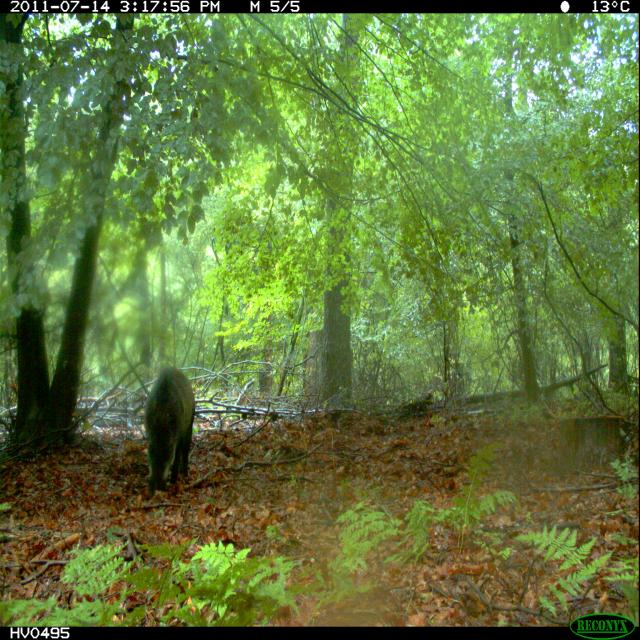boar: (127, 338, 222, 506)
